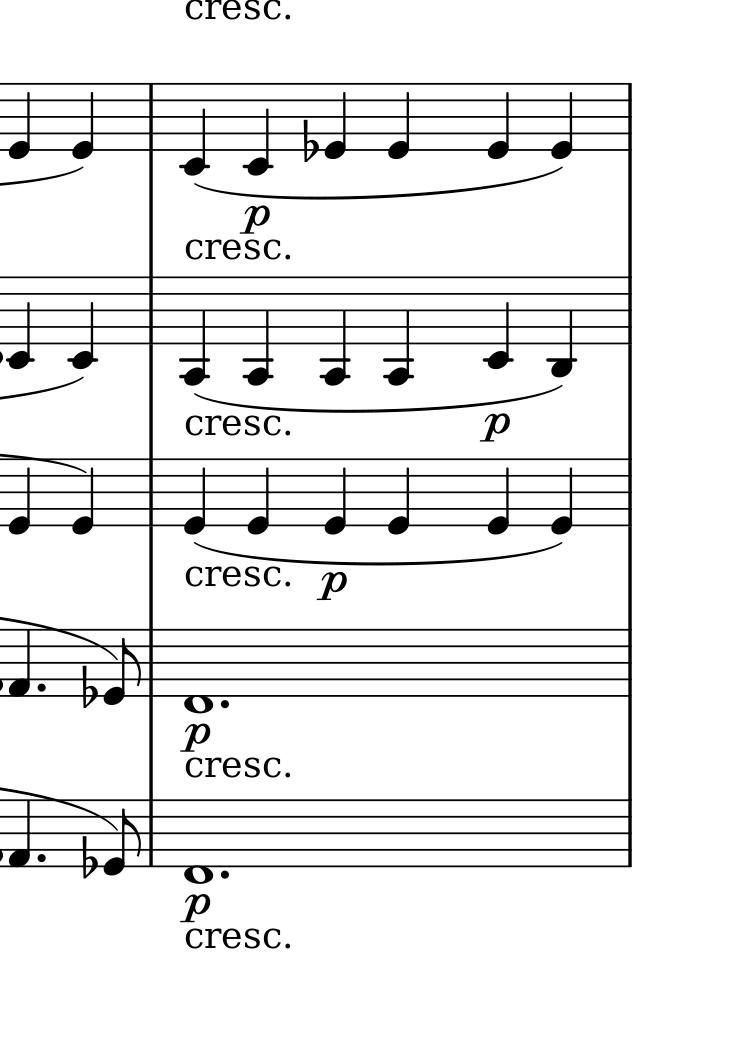1_-1: (181, 626, 218, 717), (183, 798, 218, 886)
4_-2: (66, 274, 98, 373), (482, 273, 513, 372), (179, 79, 209, 178), (244, 80, 274, 176), (6, 276, 35, 370)
4_-3: (548, 275, 577, 379)
4_-4: (383, 273, 416, 388), (178, 274, 211, 387), (243, 273, 274, 387), (321, 274, 351, 390)
4_0: (244, 457, 274, 537), (180, 456, 210, 536), (322, 455, 350, 537), (386, 455, 413, 537), (6, 82, 34, 161), (324, 81, 351, 162), (486, 81, 513, 162), (71, 81, 97, 162), (387, 82, 413, 162), (486, 456, 512, 536), (552, 457, 577, 540), (71, 457, 96, 539), (551, 81, 577, 159), (9, 457, 33, 536)
4_1: (6, 627, 33, 701), (8, 800, 33, 871)
8_0: (102, 799, 145, 877), (103, 629, 145, 706)
Cresc: (183, 235, 294, 264), (183, 755, 290, 783), (182, 564, 300, 589), (185, 413, 294, 440)
Flat: (78, 663, 98, 711), (79, 834, 98, 882), (300, 118, 318, 165)
Single_barline: (619, 629, 638, 697), (141, 629, 159, 697), (142, 84, 160, 151), (620, 83, 638, 150), (620, 459, 638, 526), (619, 800, 637, 865), (142, 459, 159, 526), (142, 800, 159, 866), (620, 277, 637, 343), (143, 278, 159, 344)
Slur: (197, 167, 567, 200), (196, 387, 571, 412), (191, 542, 567, 564)
dot: (35, 680, 50, 700), (218, 867, 237, 882), (218, 695, 235, 711), (34, 850, 48, 864)
p: (180, 891, 215, 923), (239, 203, 274, 234), (317, 571, 349, 603), (181, 722, 211, 755), (481, 409, 510, 438)
